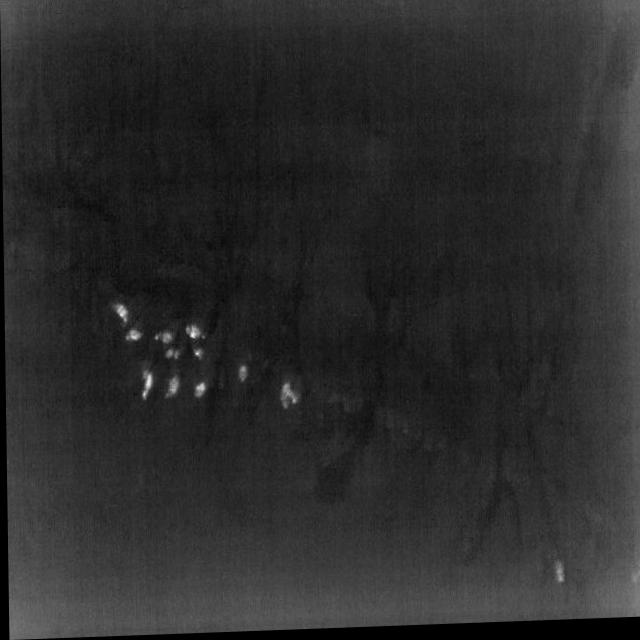deer: (279, 384, 297, 411), (139, 371, 152, 402), (111, 304, 128, 325), (184, 326, 205, 342), (165, 376, 179, 399), (552, 565, 564, 587), (153, 332, 173, 345), (125, 328, 143, 342), (192, 383, 205, 399), (165, 349, 181, 361), (236, 367, 247, 383), (191, 350, 203, 361)
